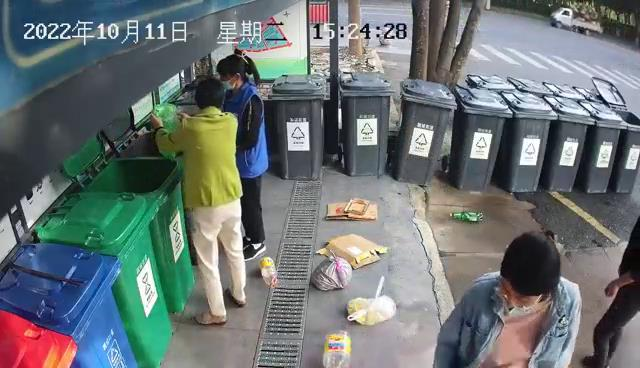garbage-bag: (345, 274, 398, 327), (308, 248, 354, 292)
person: (149, 78, 249, 326)
suliaozhipin: (321, 328, 352, 368), (258, 255, 280, 290), (447, 208, 484, 226)
worker: (431, 229, 583, 368), (213, 47, 270, 262)
zhizhipin: (314, 232, 391, 270), (323, 197, 379, 224)
